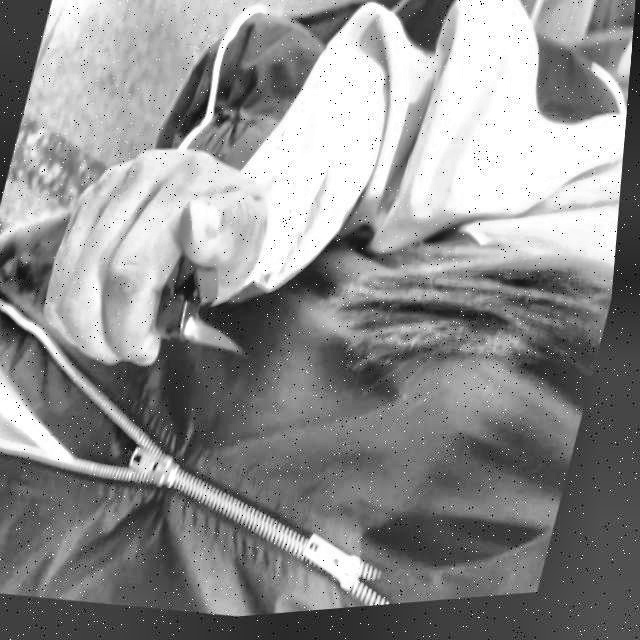Fire: (192, 319, 250, 361)
